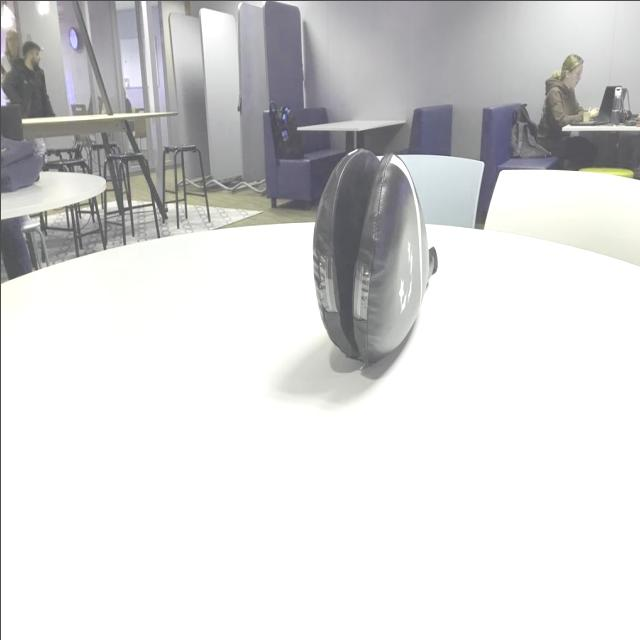paddle: (309, 140, 437, 368)
